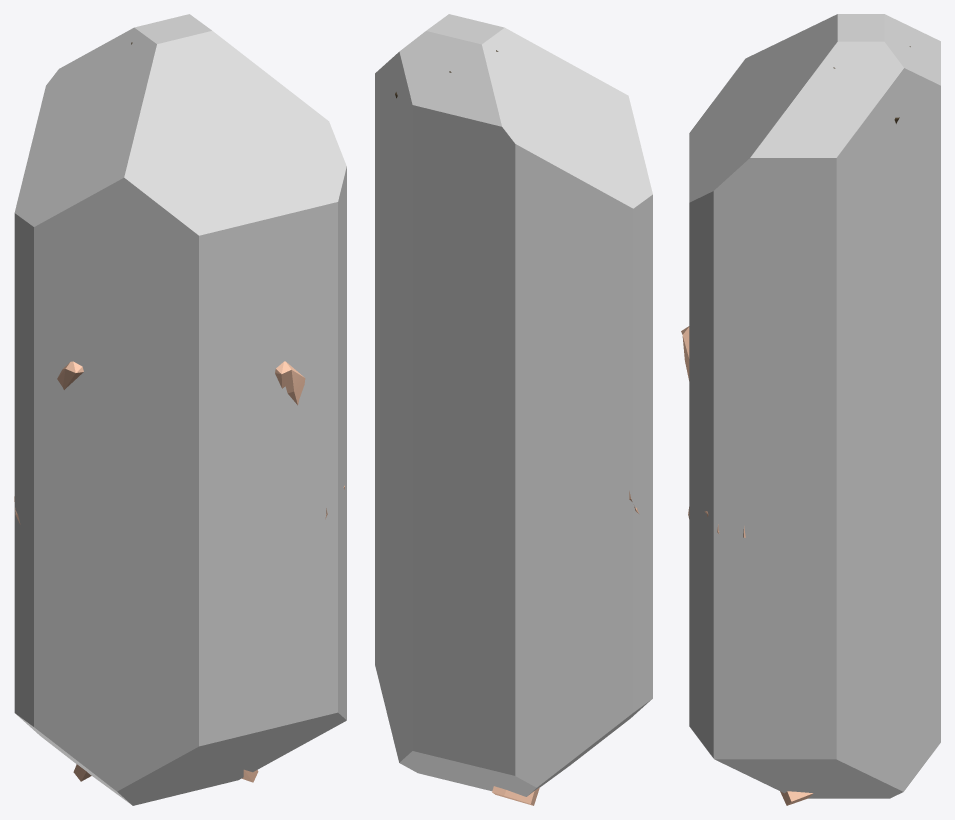
File: SM_Prop_Chr_Male_Cryo_02.fbx
The picture shows the model from 3 angles, left to right: view 1: azimuth 30°, elevation 25°; view 2: azimuth 150°, elevation 25°; view 3: azimuth 270°, elevation 25°; orthographic projection. The views are drawn at different scales.
Parts seen in each view (by area): view 1: SM_Prop_Chr_Male_Cryo_02_ConvexHulls, SM_Prop_Chr_Male_Cryo_02_LOD0; view 2: SM_Prop_Chr_Male_Cryo_02_ConvexHulls; view 3: SM_Prop_Chr_Male_Cryo_02_ConvexHulls, SM_Prop_Chr_Male_Cryo_02_LOD0.
Boxes of the visible parts, x1,y1,x2,y2 form: SM_Prop_Chr_Male_Cryo_02_ConvexHulls: (14,14,346,805); SM_Prop_Chr_Male_Cryo_02_LOD0: (14,42,344,782); SM_Prop_Chr_Male_Cryo_02_ConvexHulls: (375,14,652,796); SM_Prop_Chr_Male_Cryo_02_ConvexHulls: (689,14,940,798); SM_Prop_Chr_Male_Cryo_02_LOD0: (681,46,910,805).
Bounding box in the file's own units: 57.49 × 69.66 × 186.
1 material, 1 textured.
